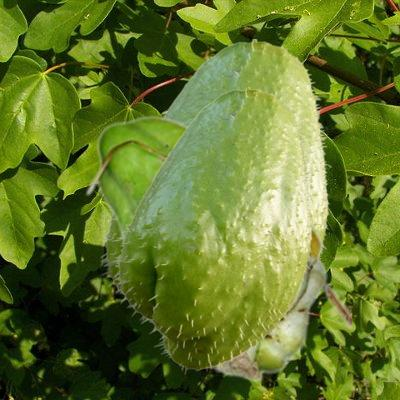sayote: (98, 39, 330, 369), (84, 115, 350, 381), (112, 87, 313, 373)
